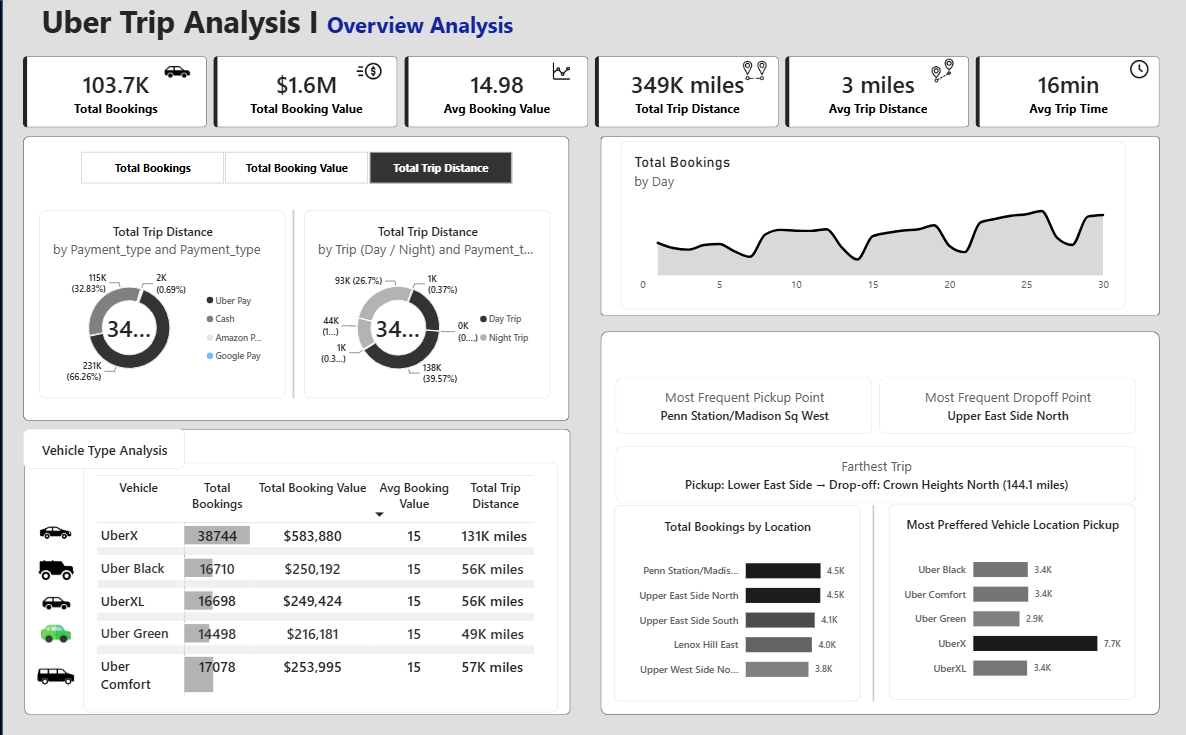

The page's visual inventory and layout, read from the dashboard file:
{"tool":"powerbi","page":{"name":"Page 1","canvas":[1600,900],"ordinal":0},"visuals":[{"type":"shape","box":[9.5,0,143.2,900],"z":0},{"type":"textbox","box":[176.6,0,622,68.4],"z":1000},{"type":"cardVisual","fields":{"Data":["Trip Details.Total Bookings","Trip Details.Total Booking Value","Trip Details.Avg Booking Value","Trip Details.Total Trip Distance","Trip Details.Avg Trip Distance","Trip Details.Avg Trip Time"]},"box":[176.6,68.4,1390.3,87.5],"z":2000},{"type":"image","box":[569.5,71.6,60.4,30.2],"z":3000},{"type":"image","box":[1042,71.6,58.9,28.6],"z":4000},{"type":"image","box":[1272.6,71.6,58.9,28.6],"z":5000},{"type":"image","box":[1524,73.2,36.6,22.3],"z":6000},{"type":"shape","box":[176.6,167,668.1,348],"z":7000},{"type":"image","box":[811.3,74.8,47.7,23.9],"z":8000},{"type":"image","box":[332.5,71.6,65.2,31.8],"z":9000},{"type":"slicer","fields":{"Values":["Dynamic measure.Dynamic measure"]},"box":[227.5,182.9,566.4,43.1],"z":10000},{"type":"donutChart","fields":{"Category":["Trip Details.Payment_type"],"Series":["Trip Details.Payment_type"],"Y":["Trip Details.Trip Distance Measure"]},"box":[197.3,256.1,300.7,230.7],"z":11000},{"type":"donutChart","fields":{"Category":["Trip Details.Trip Type (Day / Night)"],"Series":["Trip Details.Payment_type"],"Y":["Trip Details.Trip Distance Measure"]},"box":[521.8,256.1,300.7,230.7],"z":12000},{"type":"shape","box":[178.2,525,668.1,350],"z":13000},{"type":"pivotTable","fields":{"Rows":["Trip Details.Vehicle"],"Values":["Trip Details.Total Bookings","Trip Details.Total Booking Value","Trip Details.Avg Booking Value","Trip Details.Total Trip Distance"]},"box":[251.3,566.3,580.6,305.4],"z":14000},{"type":"image","box":[177.5,629.9,79.5,43],"z":15000},{"type":"image","box":[175.1,720.6,84.3,35],"z":16000},{"type":"image","box":[169.6,757.2,95.4,36.6],"z":17000},{"type":"image","box":[180.7,801.8,73.2,49.3],"z":18000},{"type":"image","box":[179.9,676.1,74.8,43],"z":19000},{"type":"cardVisual","fields":{"Data":["Trip Details.Title for Grid"]},"box":[176.6,525,198.8,49.3],"z":20000},{"type":"shape","box":[882.9,167,684,219.5],"z":21000},{"type":"areaChart","fields":{"Category":["Calendar Table.Date.Variation.Date Hierarchy.Day"],"Y":["Trip Details.Total Bookings"]},"box":[908.3,173.4,617.2,205.2],"z":22000},{"type":"shape","box":[882.9,405.6,684,469.3],"z":23000},{"type":"cardVisual","fields":{"Data":["Trip Details.Most Frequent Pickup Point","Trip Details.Most Frequent Dropoff Point"]},"box":[902,461.3,637.9,70],"z":24000},{"type":"cardVisual","fields":{"Data":["Trip Details.Farthest Trip"]},"box":[902,545.6,637.9,70],"z":25000},{"type":"barChart","fields":{"Category":["Location Table.Location"],"Y":["Trip Details.Total Bookings"]},"box":[900.4,617.2,300.7,240.2],"z":26000},{"type":"barChart","title":"Most Preffered Vehicle Location Pickup","fields":{"Category":["Trip Details.Vehicle","Trip Details.Drop Off Time.Variation.Date Hierarchy.Year","Trip Details.Drop Off Time.Variation.Date Hierarchy.Quarter","Trip Details.Drop Off Time.Variation.Date Hierarchy.Month","Trip Details.Drop Off Time.Variation.Date Hierarchy.Day"],"Y":["CountNonNull(Trip Details.PULocationID)"]},"box":[1236,615.6,300.7,240.2],"z":27000},{"type":"shape","box":[357.9,256.1,300.7,230.7],"z":28000},{"type":"shape","box":[1067.4,617.2,300.7,240.2],"z":29000}]}

Visuals, with their boxes on the page's 1600x900 design canvas (x1, y1, x2, y2). These are canvas units, not pixel positions in the 1186x735 screenshot, which may show the page scaled, cropped or inside an application window:
shape: Rect(10, 0, 153, 900)
textbox: Rect(177, 0, 799, 68)
cardVisual - Trip Details.Total Bookings x Trip Details.Total Booking Value: Rect(177, 68, 1567, 156)
image: Rect(570, 72, 630, 102)
image: Rect(1042, 72, 1101, 100)
image: Rect(1273, 72, 1332, 100)
image: Rect(1524, 73, 1561, 96)
shape: Rect(177, 167, 845, 515)
image: Rect(811, 75, 859, 99)
image: Rect(332, 72, 398, 103)
slicer - Dynamic measure.Dynamic measure: Rect(228, 183, 794, 226)
donutChart - Trip Details.Payment_type x Trip Details.Payment_type: Rect(197, 256, 498, 487)
donutChart - Trip Details.Trip Type (Day / Night) x Trip Details.Payment_type: Rect(522, 256, 822, 487)
shape: Rect(178, 525, 846, 875)
pivotTable - Trip Details.Vehicle x Trip Details.Total Bookings: Rect(251, 566, 832, 872)
image: Rect(178, 630, 257, 673)
image: Rect(175, 721, 259, 756)
image: Rect(170, 757, 265, 794)
image: Rect(181, 802, 254, 851)
image: Rect(180, 676, 255, 719)
cardVisual - Trip Details.Title for Grid: Rect(177, 525, 375, 574)
shape: Rect(883, 167, 1567, 386)
areaChart - Calendar Table.Date.Variation.Date Hierarchy.Day x Trip Details.Total Bookings: Rect(908, 173, 1526, 379)
shape: Rect(883, 406, 1567, 875)
cardVisual - Trip Details.Most Frequent Pickup Point x Trip Details.Most Frequent Dropoff Point: Rect(902, 461, 1540, 531)
cardVisual - Trip Details.Farthest Trip: Rect(902, 546, 1540, 616)
barChart - Location Table.Location x Trip Details.Total Bookings: Rect(900, 617, 1201, 857)
"Most Preffered Vehicle Location Pickup" barChart: Rect(1236, 616, 1537, 856)
shape: Rect(358, 256, 659, 487)
shape: Rect(1067, 617, 1368, 857)
